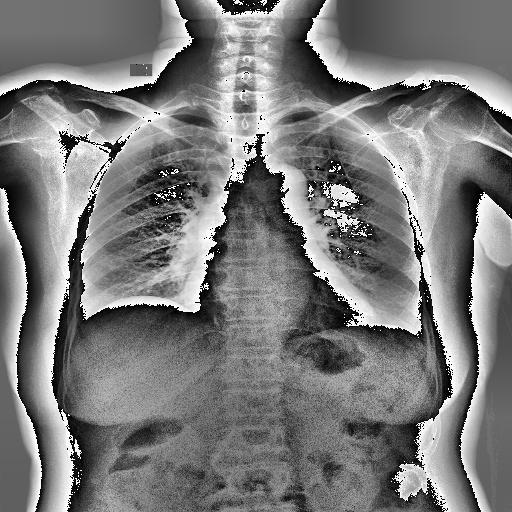0- Aortic enlargement: (250, 164, 310, 214), (250, 162, 308, 211), (268, 165, 306, 196)
2- Calcification: (282, 182, 292, 196)
3- Cardiomegaly: (181, 270, 382, 330), (180, 274, 380, 328), (179, 280, 379, 330)
